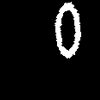chain: (55, 2, 80, 57)
